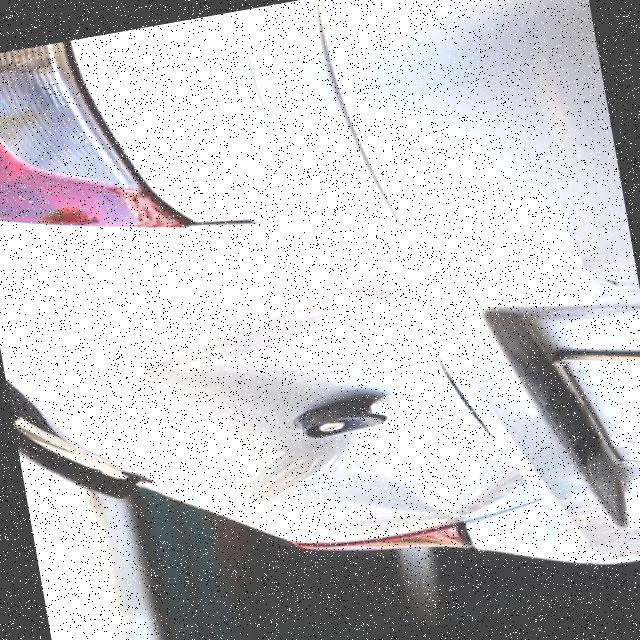Dent: (102, 217, 533, 568), (0, 302, 158, 467)
